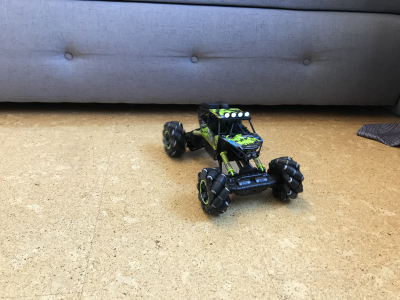remote control car: (159, 99, 305, 218)
